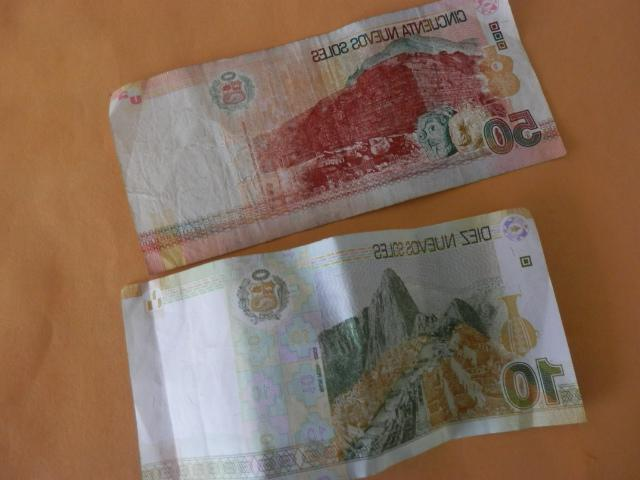B10: (122, 248, 590, 480)
B50: (105, 1, 567, 205)
